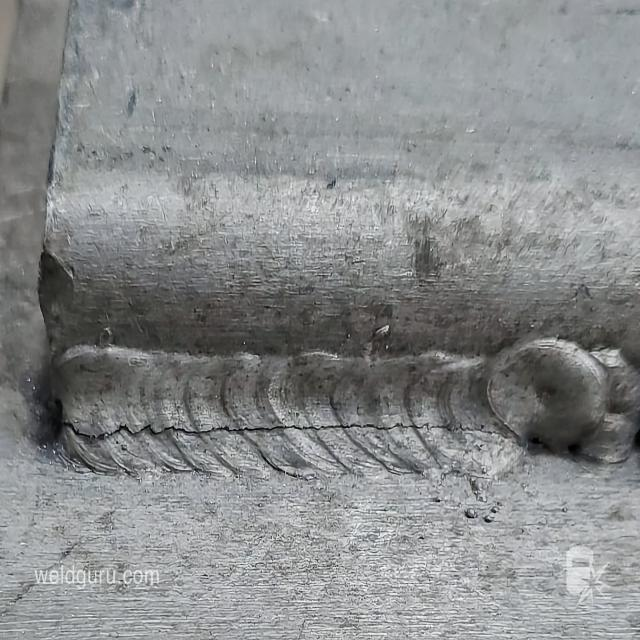Crack: (62, 418, 519, 447)
